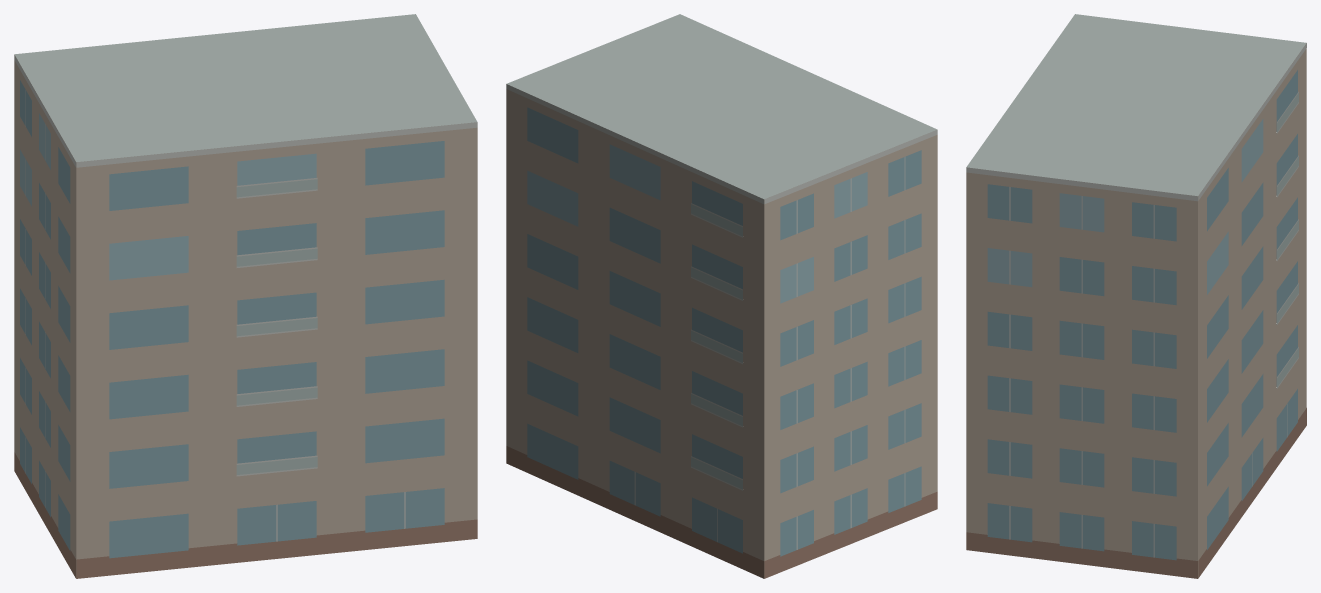
Rendered from survey-upis-33019430.glb.
3 views of the same model, side by side, from view 1: azimuth 30°, elevation 25°; view 2: azimuth 150°, elevation 25°; view 3: azimuth 270°, elevation 25° (orthographic). The views are drawn at different scales.
Parts seen in each view (by area): view 1: survey-upis-33019430.tmp; view 2: survey-upis-33019430.tmp; view 3: survey-upis-33019430.tmp.
Part boxes in pixels (x1,y1,x2,y2): survey-upis-33019430.tmp: [14, 14, 477, 578]; survey-upis-33019430.tmp: [506, 14, 937, 578]; survey-upis-33019430.tmp: [966, 14, 1306, 578].
Bounding box in the file's own units: 18.7 × 18.3 × 14.77.
